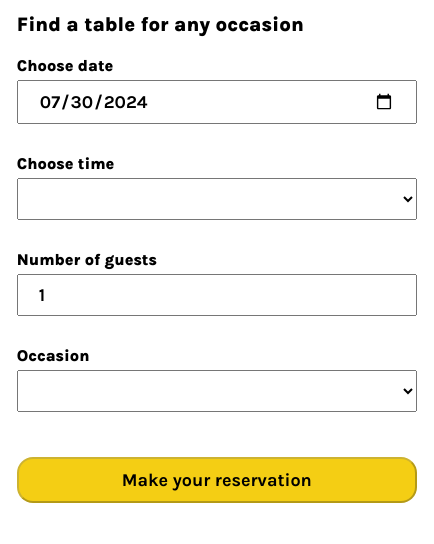
Test: Validation incorrect for BookingForm - no time selected
The width and height of the screenshot is (434, 544).
Select "" in the dropdown with id "res-time". click: point(217, 199)
box: [17, 178, 417, 220]
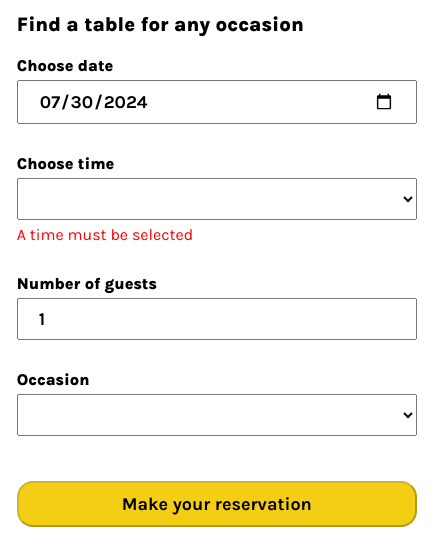
Expected: the button with id "submit-button" is disabled, [17, 481, 417, 527]
Expected: the text "A time must be selected" is shown, [17, 225, 193, 244]
